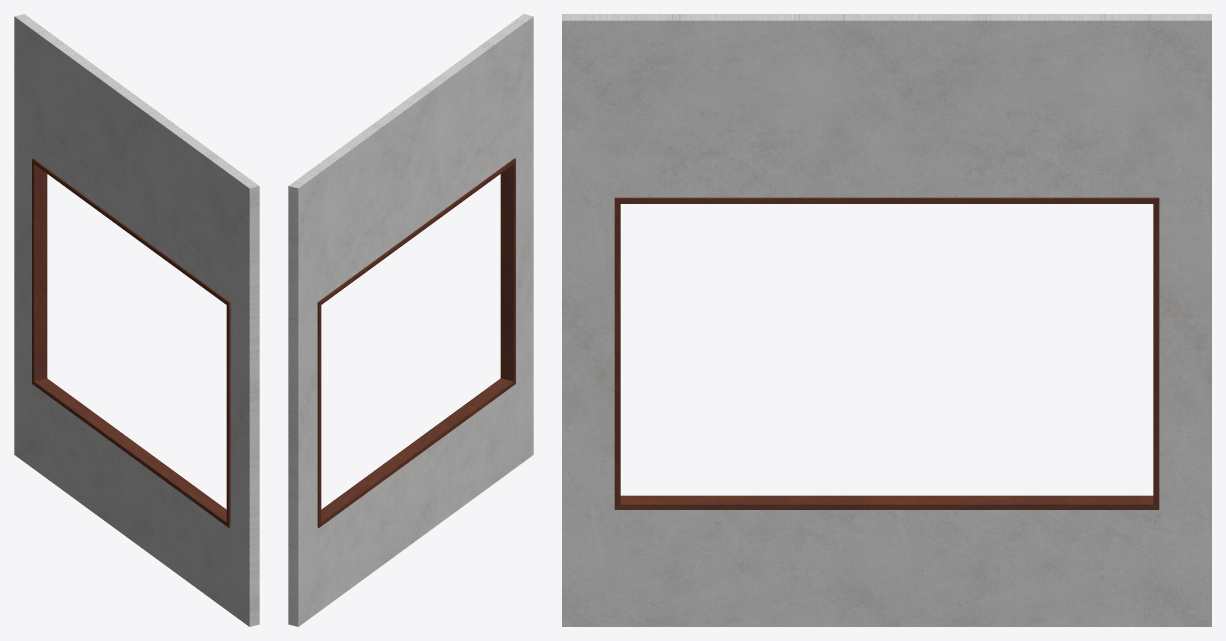
Rendered from SM_White_Red_Wall01P.fbx.
The picture shows the model from 3 angles, left to right: view 1: azimuth 30°, elevation 25°; view 2: azimuth 150°, elevation 25°; view 3: azimuth 270°, elevation 25°; orthographic projection. The views are drawn at different scales.
Visible parts, largest first — view 1: SM_White_Red_Wall01P; view 2: SM_White_Red_Wall01P; view 3: SM_White_Red_Wall01P.
Part boxes in pixels (x1=…): SM_White_Red_Wall01P: x1=14, y1=14, x2=259, y2=626; SM_White_Red_Wall01P: x1=288, y1=14, x2=533, y2=626; SM_White_Red_Wall01P: x1=562, y1=14, x2=1211, y2=626.
Size of the model in its own units: 8.99 by 277 by 285.
